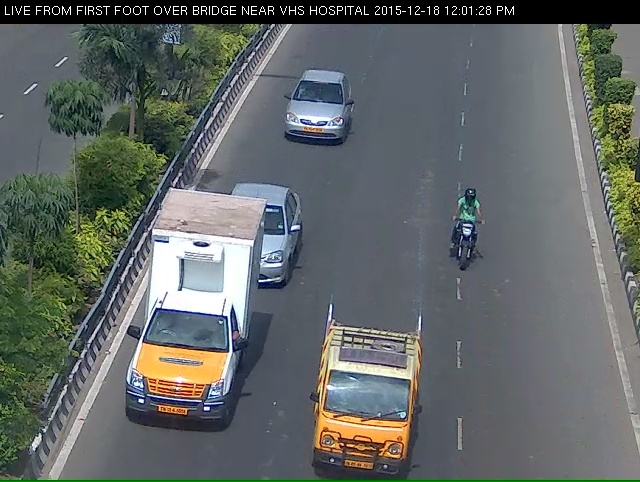Car: (108, 228, 235, 460), (298, 330, 431, 479), (207, 197, 292, 306), (269, 75, 356, 165)
Person: (444, 207, 487, 297)
